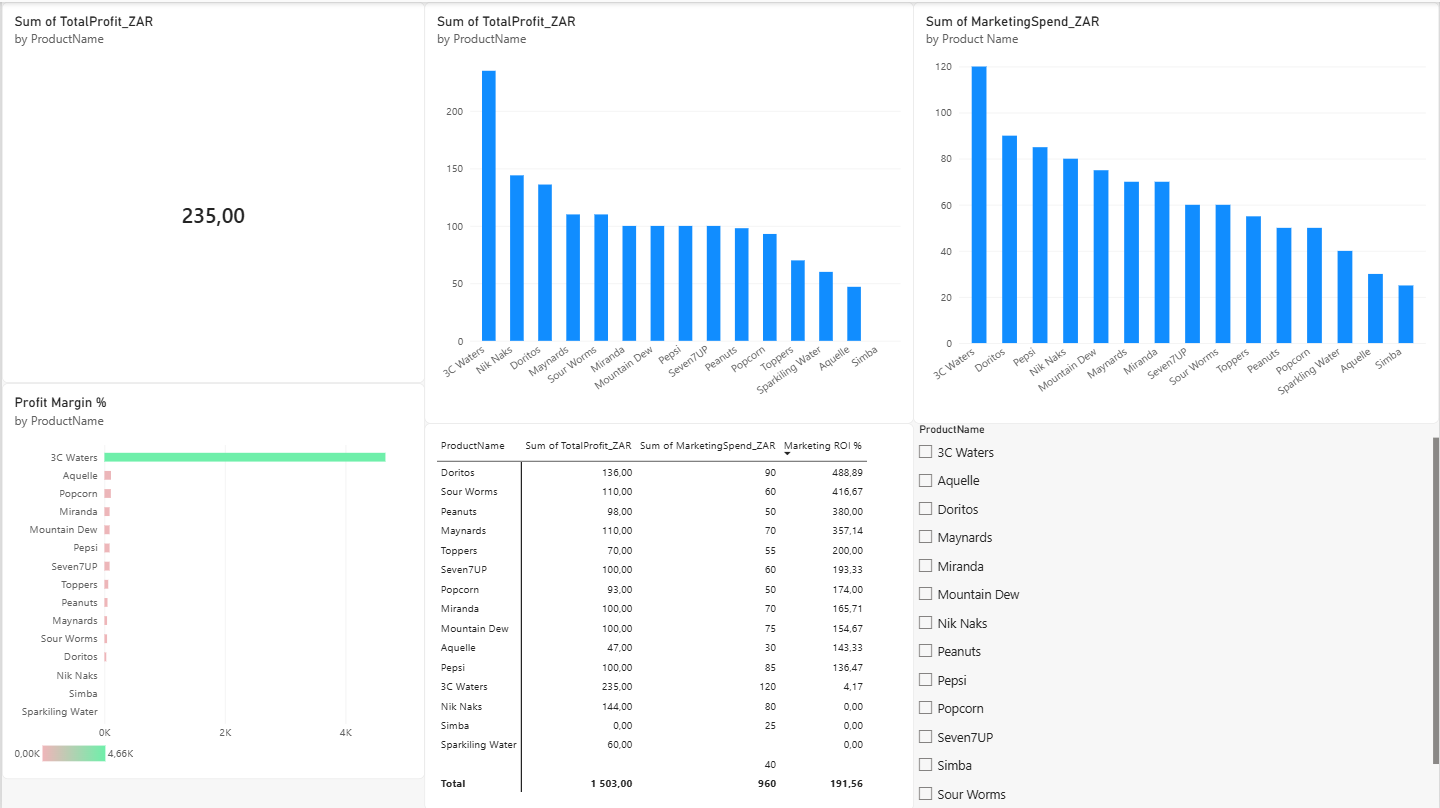

The dashboard page shown, as its layout file describes it:
{"tool":"powerbi","page":{"name":"Page 1","canvas":[1920,1080],"ordinal":0},"visuals":[{"type":"clusteredColumnChart","fields":{"Category":["Products.ProductName"],"Y":["Sum(Products.TotalProfit_ZAR)"]},"box":[564.6,0,653.3,562.8],"z":1000},{"type":"clusteredBarChart","fields":{"Category":["Products.ProductName"],"Y":["Products.Profit Margin %"]},"box":[0,508.5,564.6,528.4],"z":2000},{"type":"clusteredColumnChart","fields":{"Category":["Marketing Costing.Product Name"],"Y":["Sum(Marketing Costing.MarketingSpend_ZAR)"]},"box":[1217.9,0,702.1,562.8],"z":3000},{"type":"pivotTable","fields":{"Rows":["Products.ProductName"],"Values":["Sum(Products.TotalProfit_ZAR)","Sum(Marketing Costing.MarketingSpend_ZAR)","Marketing Costing.Marketing ROI %"]},"box":[564.6,562.8,653.3,517.6],"z":4000},{"type":"slicer","fields":{"Values":["Products.ProductName"]},"box":[1217.9,562.8,702.1,517.6],"z":5000},{"type":"kpi","fields":{"Indicator":["Sum(Products.TotalProfit_ZAR)"],"TrendLine":["Products.ProductName"]},"box":[0,0,565,509],"z":5001}]}

Visuals, with their boxes in screenshot pixels (x1, y1, x2, y2), scaled from the page's 1920x1080 canvas onto the 1440x808 screenshot:
clusteredColumnChart - Products.ProductName x Sum(Products.TotalProfit_ZAR): pyautogui.locateOnScreen(423, 0, 913, 421)
clusteredBarChart - Products.ProductName x Products.Profit Margin %: pyautogui.locateOnScreen(0, 380, 423, 776)
clusteredColumnChart - Marketing Costing.Product Name x Sum(Marketing Costing.MarketingSpend_ZAR): pyautogui.locateOnScreen(913, 0, 1439, 421)
pivotTable - Products.ProductName x Sum(Products.TotalProfit_ZAR): pyautogui.locateOnScreen(423, 421, 913, 807)
slicer - Products.ProductName: pyautogui.locateOnScreen(913, 421, 1439, 807)
kpi - Sum(Products.TotalProfit_ZAR) x Products.ProductName: pyautogui.locateOnScreen(0, 0, 424, 381)
